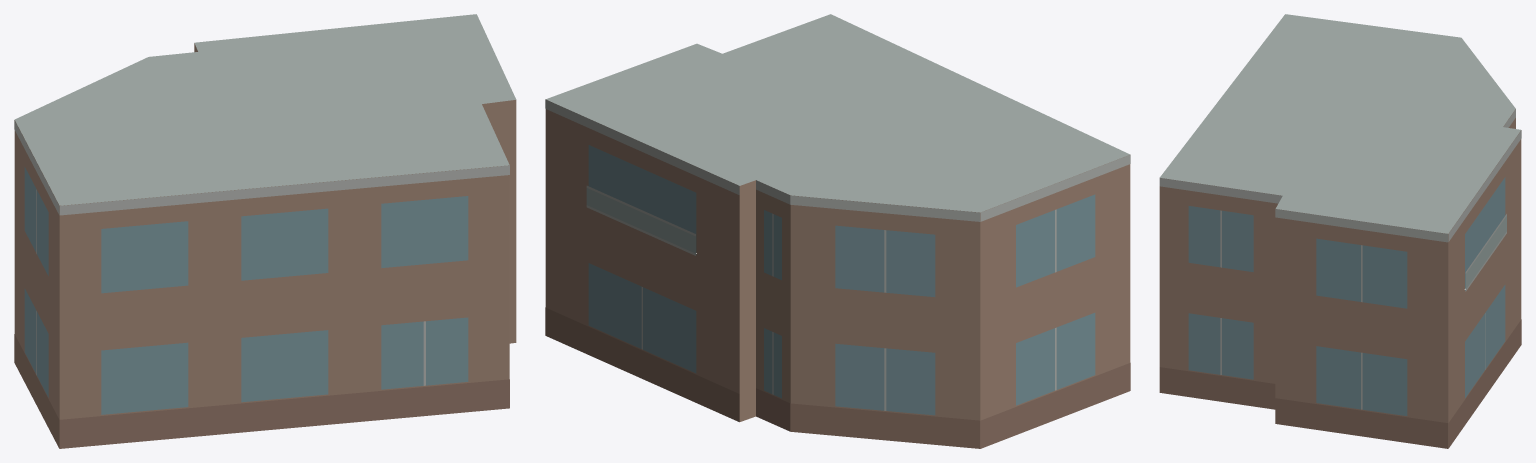
Rendered from survey-upis-32655089.glb.
3 views of the same model, side by side, from view 1: azimuth 30°, elevation 25°; view 2: azimuth 150°, elevation 25°; view 3: azimuth 270°, elevation 25° (orthographic). The views are drawn at different scales.
Visible parts, largest first — view 1: survey-upis-32655089.tmp; view 2: survey-upis-32655089.tmp; view 3: survey-upis-32655089.tmp.
Boxes of the visible parts, x1,y1,x2,y2 form: survey-upis-32655089.tmp: [14, 14, 516, 448]; survey-upis-32655089.tmp: [545, 14, 1130, 448]; survey-upis-32655089.tmp: [1159, 14, 1521, 448].
Size of the model in its own units: 13.39 by 6.1 by 9.32.
